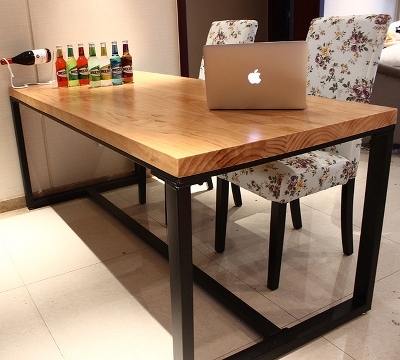kursi: (215, 15, 392, 291)
meja: (9, 70, 397, 360)
tempat minum: (88, 41, 102, 88), (76, 42, 90, 85), (55, 45, 69, 87), (100, 42, 113, 86), (66, 44, 79, 87), (121, 40, 134, 83), (110, 41, 122, 85)
